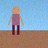person: (8, 6, 23, 35)
